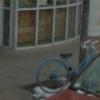bicycles: (37, 52, 94, 96)
